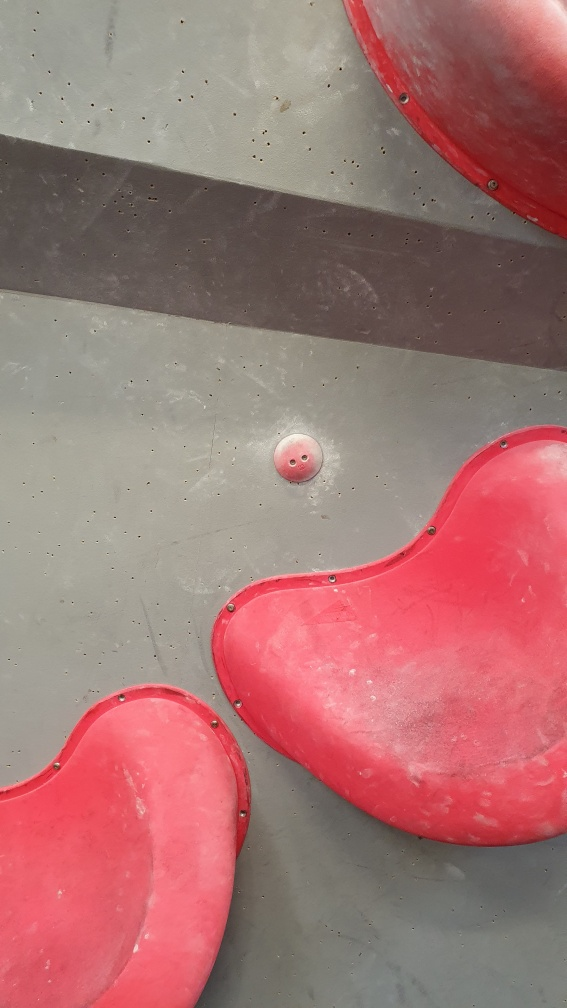Sloper: (269, 429, 327, 492)
